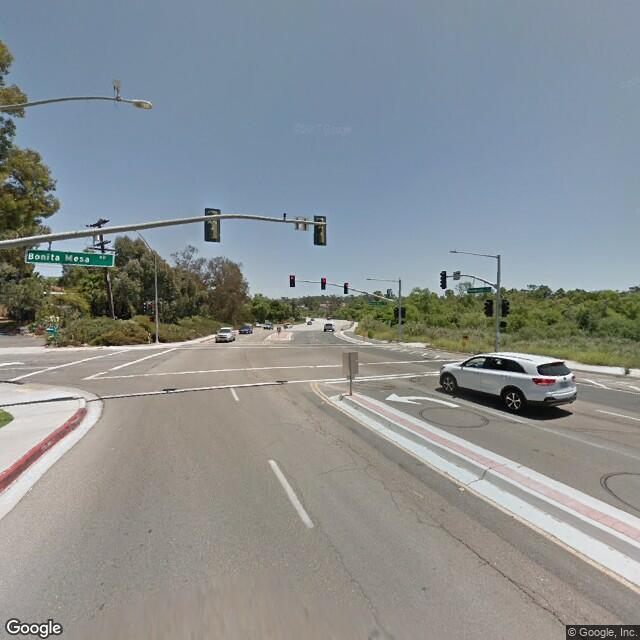litter: (81, 343, 92, 346)
